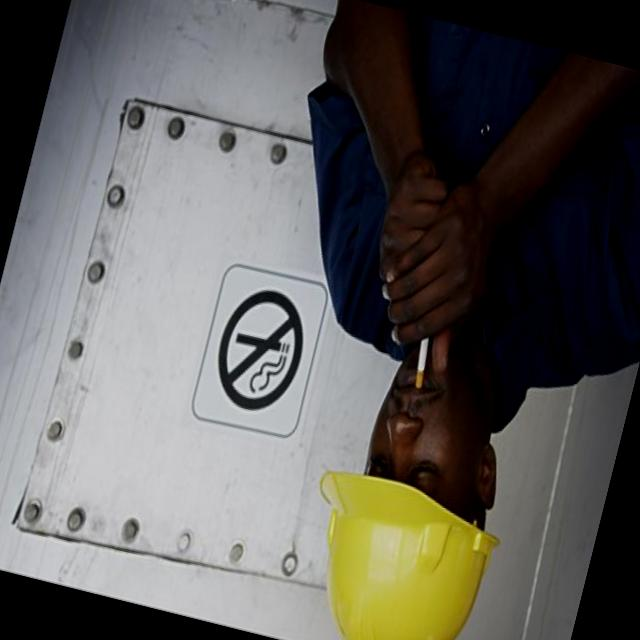smoke: (407, 329, 438, 393)
